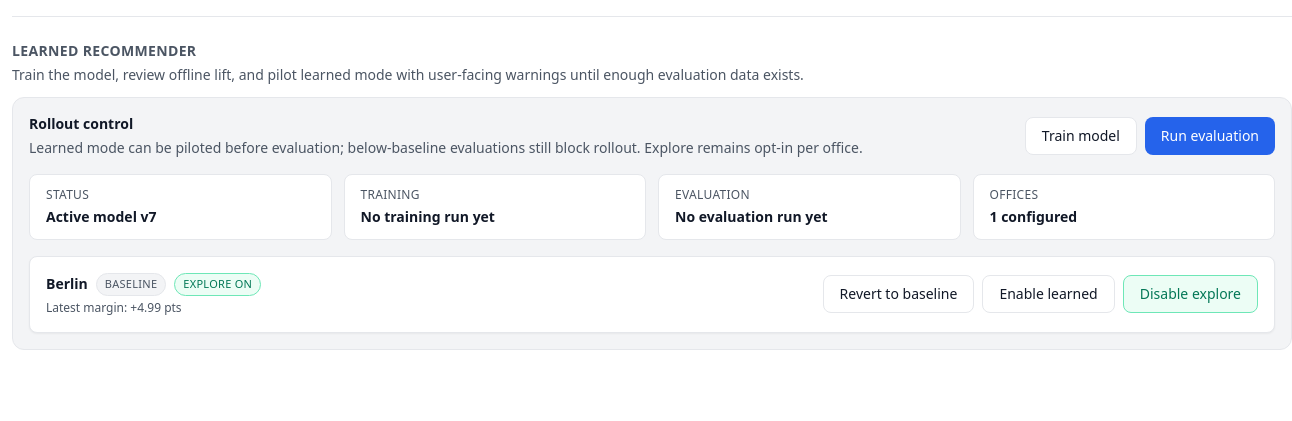
Test case: RecommenderAdminPanel › blocks learned mode when the margin stays below the gate
expect the text "baseline" is shown: met, box x1=96 y1=273 x2=166 y2=296
What coordinates should you click on to do the following:
click the button "Enable learned"
I would click on:
 (1049, 294)
Its box is x1=982 y1=275 x2=1115 y2=313.
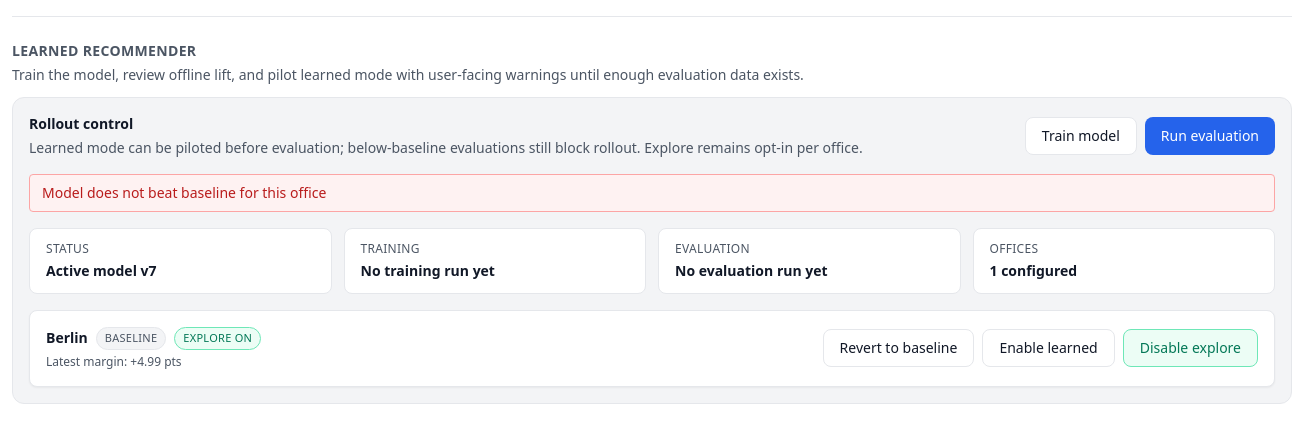
expect the text "Model does not beat baseline for this office" is shown: met, box x1=29 y1=174 x2=1275 y2=212
